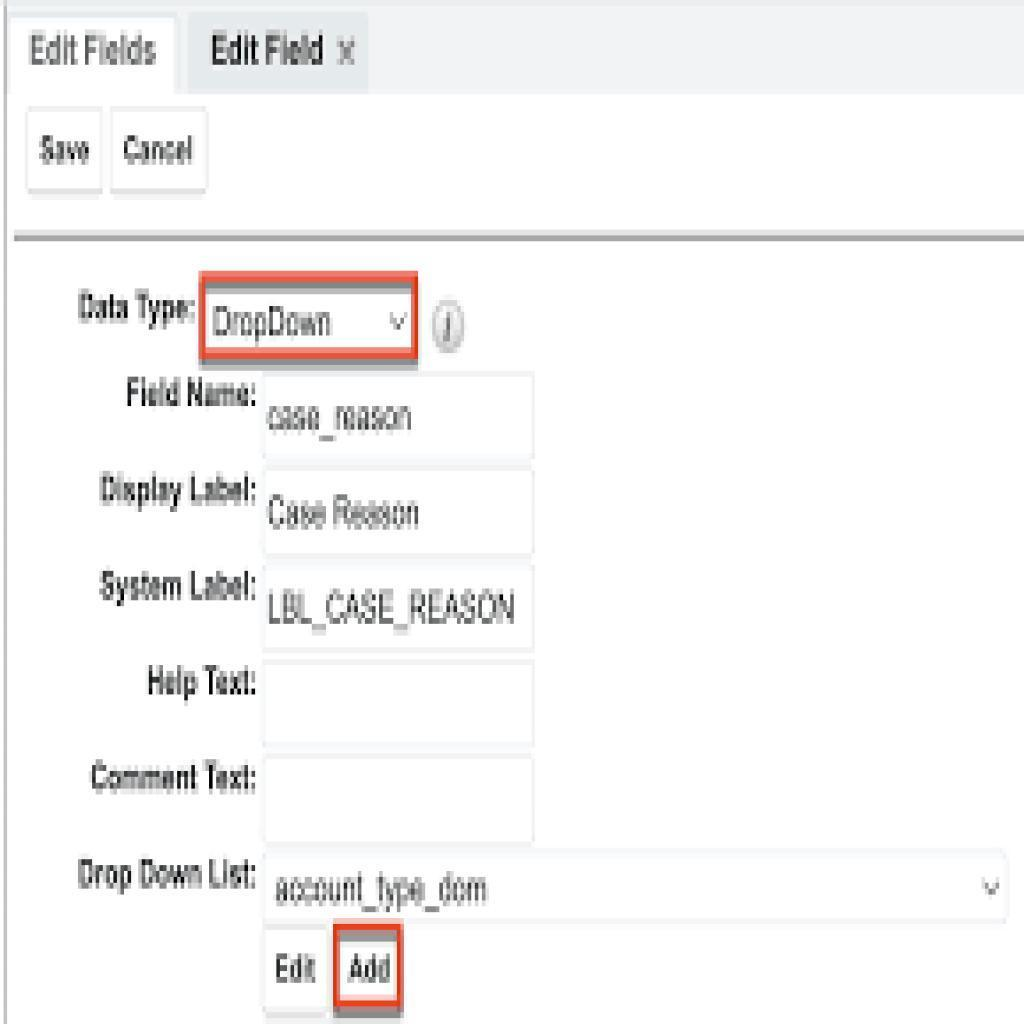button: (108, 108, 202, 193), (29, 110, 102, 190), (264, 933, 334, 1013), (341, 940, 401, 1003), (334, 1021, 336, 1023)
dropdown: (265, 836, 1009, 919), (202, 274, 422, 367)
input: (267, 379, 536, 470), (263, 662, 531, 752), (265, 473, 536, 559), (265, 567, 534, 653), (264, 762, 533, 834)
